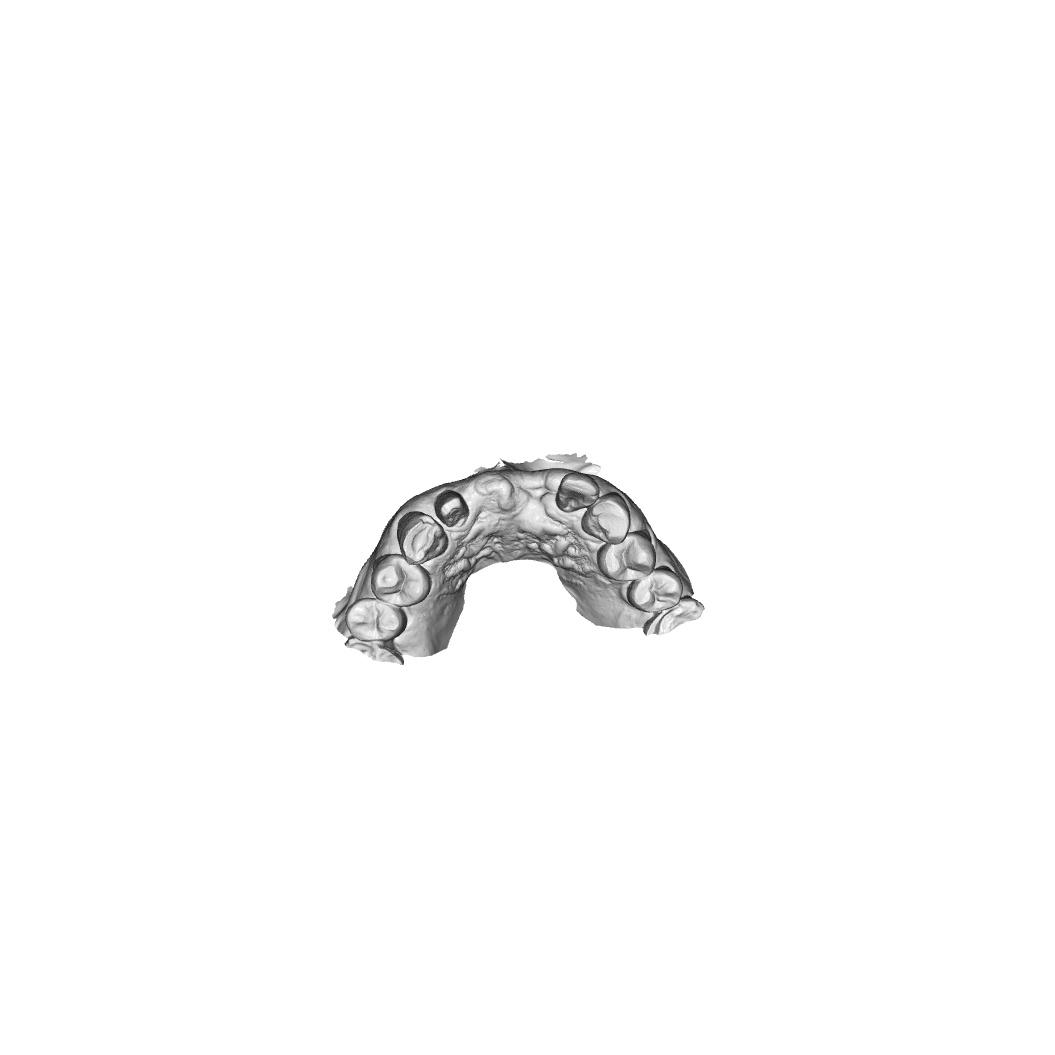canine: (396, 511, 449, 565), (581, 492, 630, 545)
incisor: (555, 472, 600, 513), (434, 490, 469, 528)
premolar: (370, 553, 432, 607), (596, 530, 657, 582), (344, 597, 408, 643), (627, 565, 683, 613)
